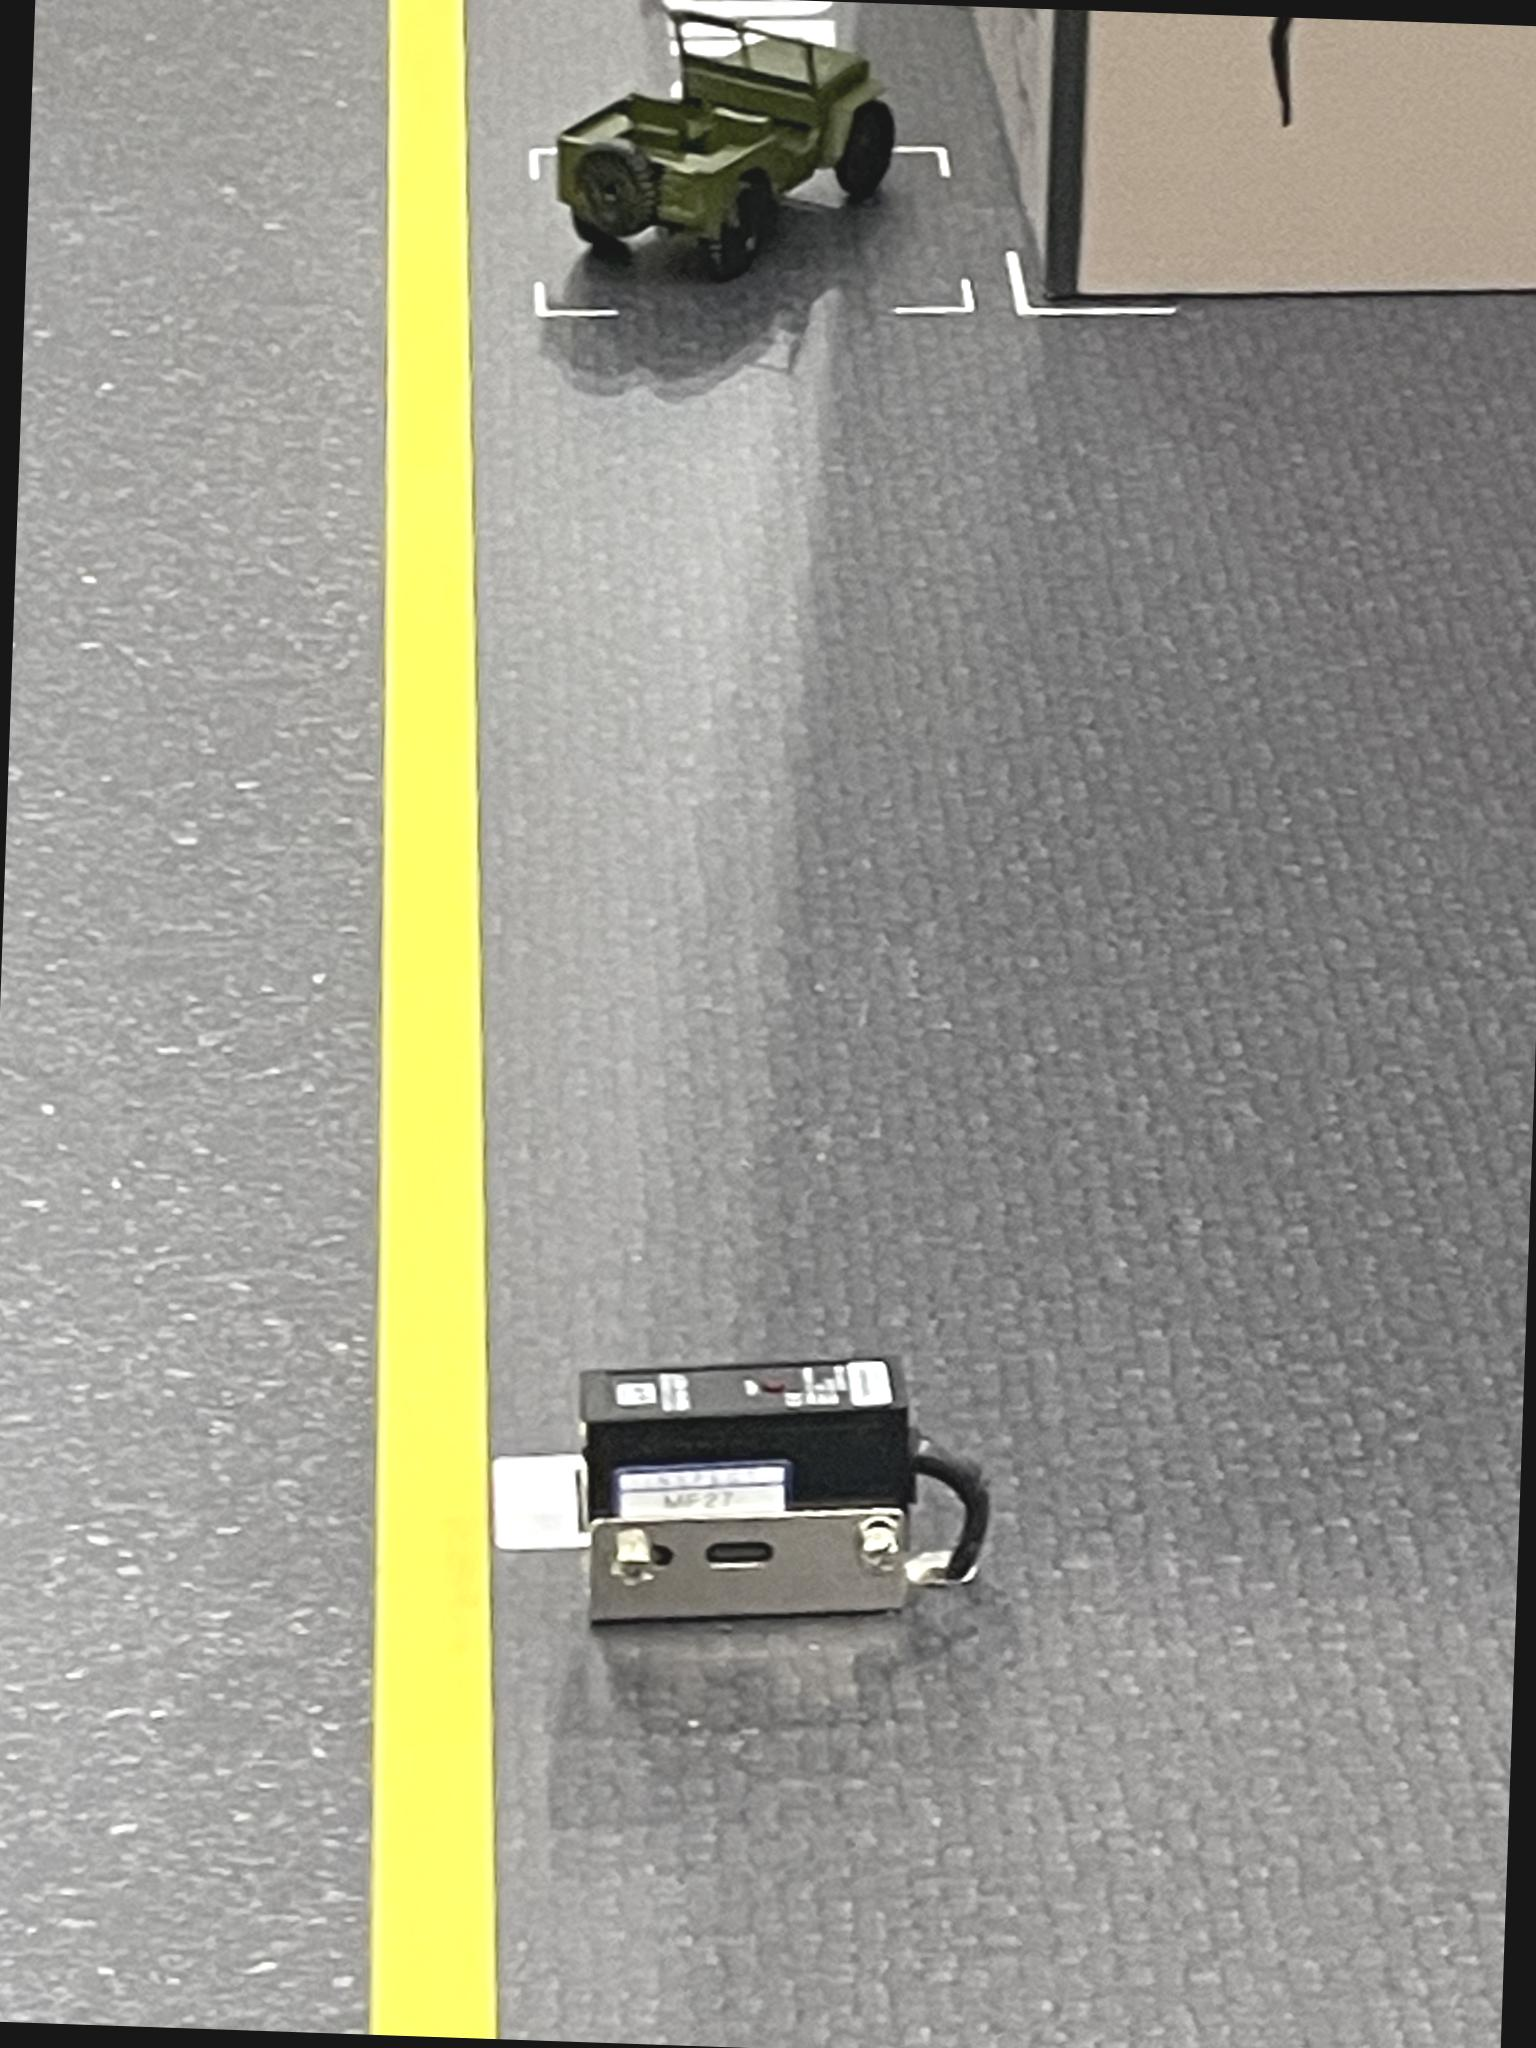Car: (544, 0, 904, 293)
